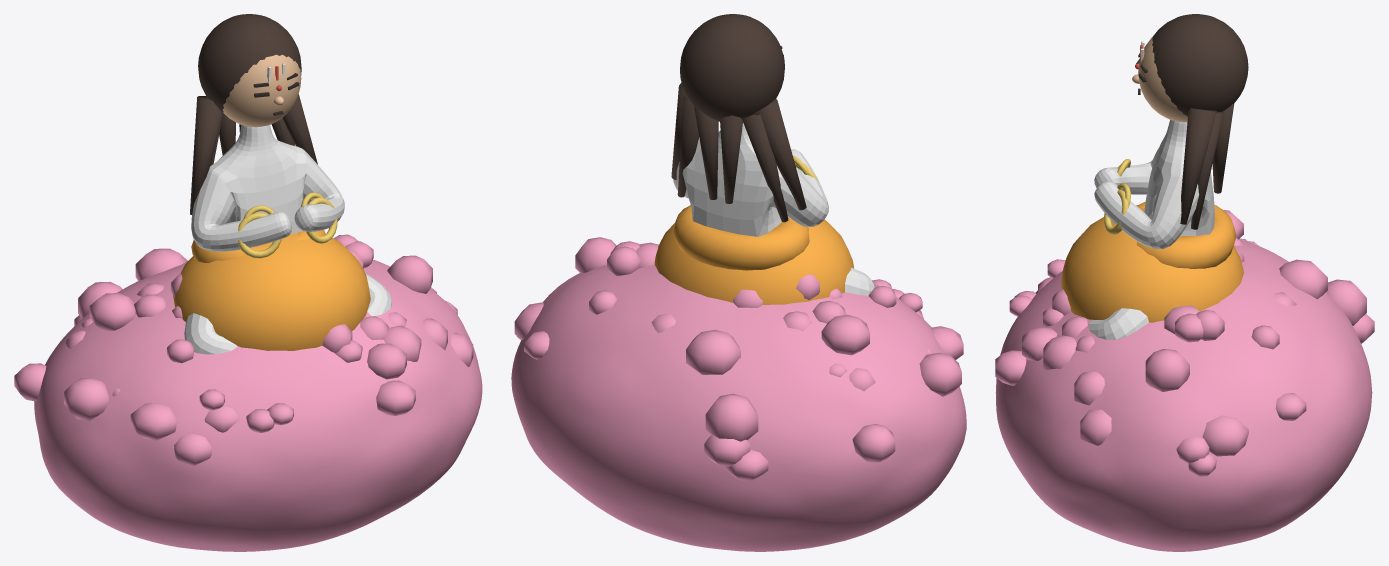
Rendered from Praladha_mdl_alpha.fbx.
3 views of the same model, side by side, from view 1: azimuth 30°, elevation 25°; view 2: azimuth 150°, elevation 25°; view 3: azimuth 270°, elevation 25° (orthographic). The views are drawn at different scales.
Parts seen in each view (by area): view 1: Prahlad_PetalCloud, Prahlad_Dhoti, Prahlad_Body, Prahlad_HairCap, Prahlad_Head, Prahlad_Hair_R1, Prahlad_Petal_34, Prahlad_Petal_15, Prahlad_Petal_23, Prahlad_Petal_46, Prahlad_Petal_05, Prahlad_Petal_28 (+11 smaller); view 2: Prahlad_PetalCloud, Prahlad_HairCap, Prahlad_Body, Prahlad_Dhoti, Prahlad_WaistWrap, Prahlad_Petal_18, Prahlad_Petal_44, Prahlad_Hair_R1, Prahlad_Hair_R2, Prahlad_Petal_15, Prahlad_Petal_34, Prahlad_Hair_Back2 (+11 smaller); view 3: Prahlad_PetalCloud, Prahlad_Dhoti, Prahlad_Body, Prahlad_HairCap, Prahlad_WaistWrap, Prahlad_Hair_L1, Prahlad_Petal_46, Prahlad_Head, Prahlad_Petal_29, Prahlad_Petal_44, Prahlad_Petal_18, Prahlad_Hair_L2 (+11 smaller).
Part boxes in pixels (x1,y1,x2,y2): Prahlad_PetalCloud: [34, 259, 482, 551]; Prahlad_Dhoti: [173, 233, 370, 350]; Prahlad_Body: [184, 125, 392, 354]; Prahlad_HairCap: [198, 14, 301, 113]; Prahlad_Head: [222, 54, 301, 127]; Prahlad_Hair_R1: [190, 96, 222, 214]; Prahlad_Petal_34: [64, 378, 108, 420]; Prahlad_Petal_15: [89, 293, 135, 330]; Prahlad_Petal_23: [130, 403, 176, 440]; Prahlad_Petal_46: [387, 255, 432, 293]; Prahlad_Petal_05: [367, 343, 406, 379]; Prahlad_Petal_28: [376, 380, 415, 415]; Prahlad_PetalCloud: [511, 264, 966, 551]; Prahlad_HairCap: [680, 14, 784, 121]; Prahlad_Body: [673, 122, 874, 295]; Prahlad_Dhoti: [654, 219, 853, 304]; Prahlad_WaistWrap: [673, 205, 809, 270]; Prahlad_Petal_18: [705, 393, 758, 441]; Prahlad_Petal_44: [686, 329, 740, 374]; Prahlad_Hair_R1: [753, 99, 806, 210]; Prahlad_Hair_R2: [742, 114, 788, 222]; Prahlad_Petal_15: [821, 314, 869, 355]; Prahlad_Petal_34: [919, 352, 961, 396]; Prahlad_Hair_Back2: [720, 115, 742, 203]; Prahlad_PetalCloud: [995, 239, 1372, 551]; Prahlad_Dhoti: [1061, 205, 1243, 322]; Prahlad_Body: [1088, 119, 1214, 339]; Prahlad_HairCap: [1152, 14, 1248, 116]; Prahlad_WaistWrap: [1136, 201, 1236, 268]; Prahlad_Hair_L1: [1180, 108, 1217, 224]; Prahlad_Petal_46: [1145, 349, 1189, 391]; Prahlad_Head: [1138, 37, 1187, 122]; Prahlad_Petal_29: [1202, 415, 1248, 456]; Prahlad_Petal_44: [1279, 259, 1327, 299]; Prahlad_Petal_18: [1326, 279, 1366, 325]; Prahlad_Hair_L2: [1191, 111, 1223, 229].
Bounding box in the file's own units: 160 × 189 × 129.
